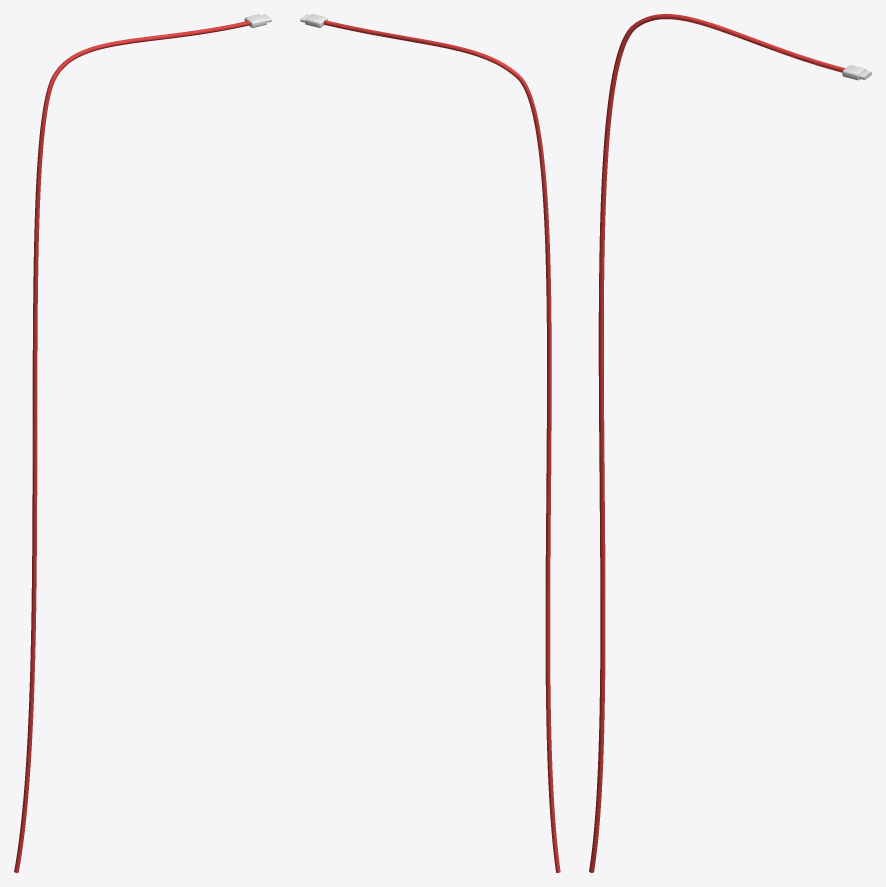
Rendered from cable.glb.
3 views of the same model, side by side, from view 1: azimuth 30°, elevation 25°; view 2: azimuth 150°, elevation 25°; view 3: azimuth 330°, elevation 25° (orthographic). The views are drawn at different scales.
Visible parts, largest first — view 1: Cube.001; view 2: Cube.001; view 3: Cube.001.
Boxes of the visible parts, x1,y1,x2,y2 form: Cube.001: (14,14,271,872); Cube.001: (300,14,560,872); Cube.001: (589,14,871,872).
Bounding box in the file's own units: 0.4365 × 1.31 × 0.0327.
